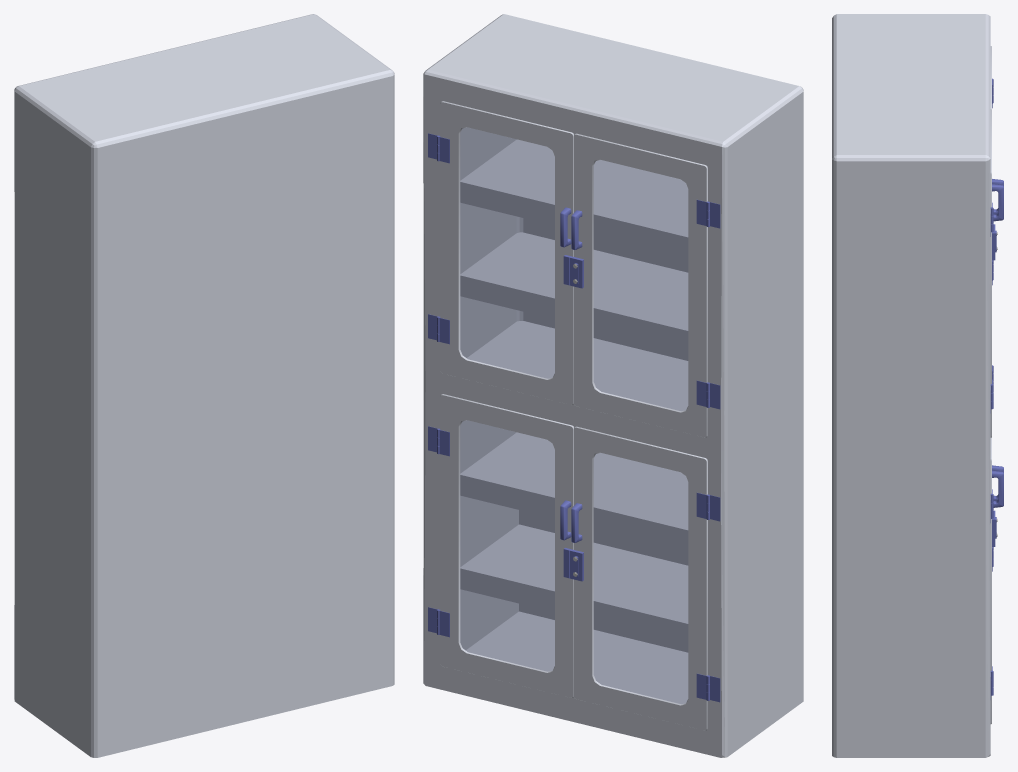
The model's file is SM_药品室_常规试剂柜.fbx.
3 views of the same model, side by side, from view 1: azimuth 30°, elevation 25°; view 2: azimuth 150°, elevation 25°; view 3: azimuth 270°, elevation 25° (orthographic). The views are drawn at different scales.
Visible parts, largest first — view 1: SM_药品室_常规试剂柜; view 2: SM_药品室_常规试剂柜; view 3: SM_药品室_常规试剂柜.
Boxes of the visible parts, bbox=[...] form: SM_药品室_常规试剂柜: bbox=[14, 14, 394, 757]; SM_药品室_常规试剂柜: bbox=[423, 14, 803, 757]; SM_药品室_常规试剂柜: bbox=[832, 14, 1003, 757].
Size of the model in its own units: 1108 by 2141 by 555.
